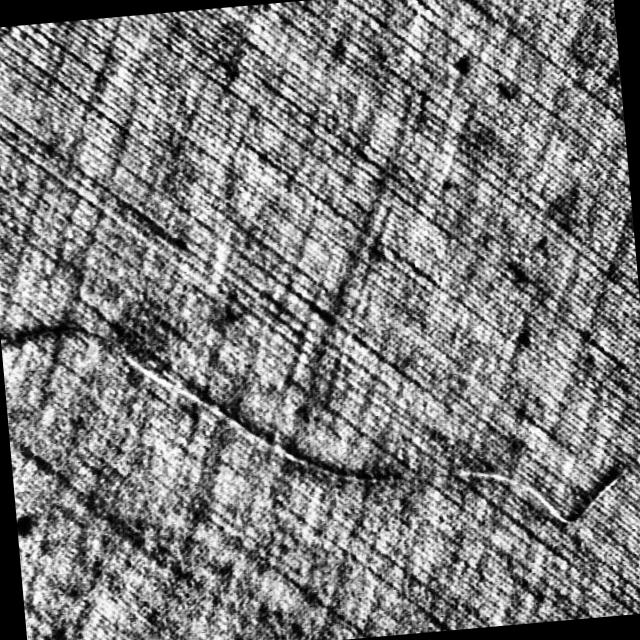gray stitch: (0, 264, 635, 578)
